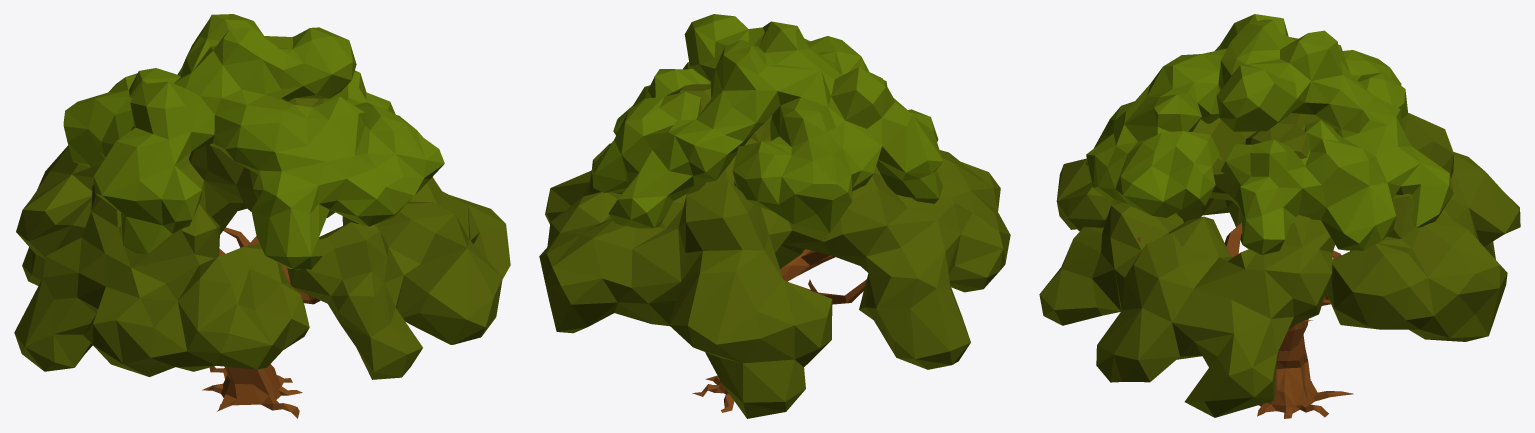
File: Weeping Fig1.fbx
The picture shows the model from 3 angles, left to right: view 1: azimuth 30°, elevation 25°; view 2: azimuth 150°, elevation 25°; view 3: azimuth 270°, elevation 25°; orthographic projection. The views are drawn at different scales.
Parts seen in each view (by area): view 1: Weep Fig1; view 2: Weep Fig1; view 3: Weep Fig1.
Boxes of the visible parts, bbox=[...] form: Weep Fig1: bbox=[14, 14, 510, 418]; Weep Fig1: bbox=[539, 14, 1010, 418]; Weep Fig1: bbox=[1039, 14, 1520, 418].
Size of the model in its own units: 2546 by 2005 by 2379.
1 material, 1 textured.
